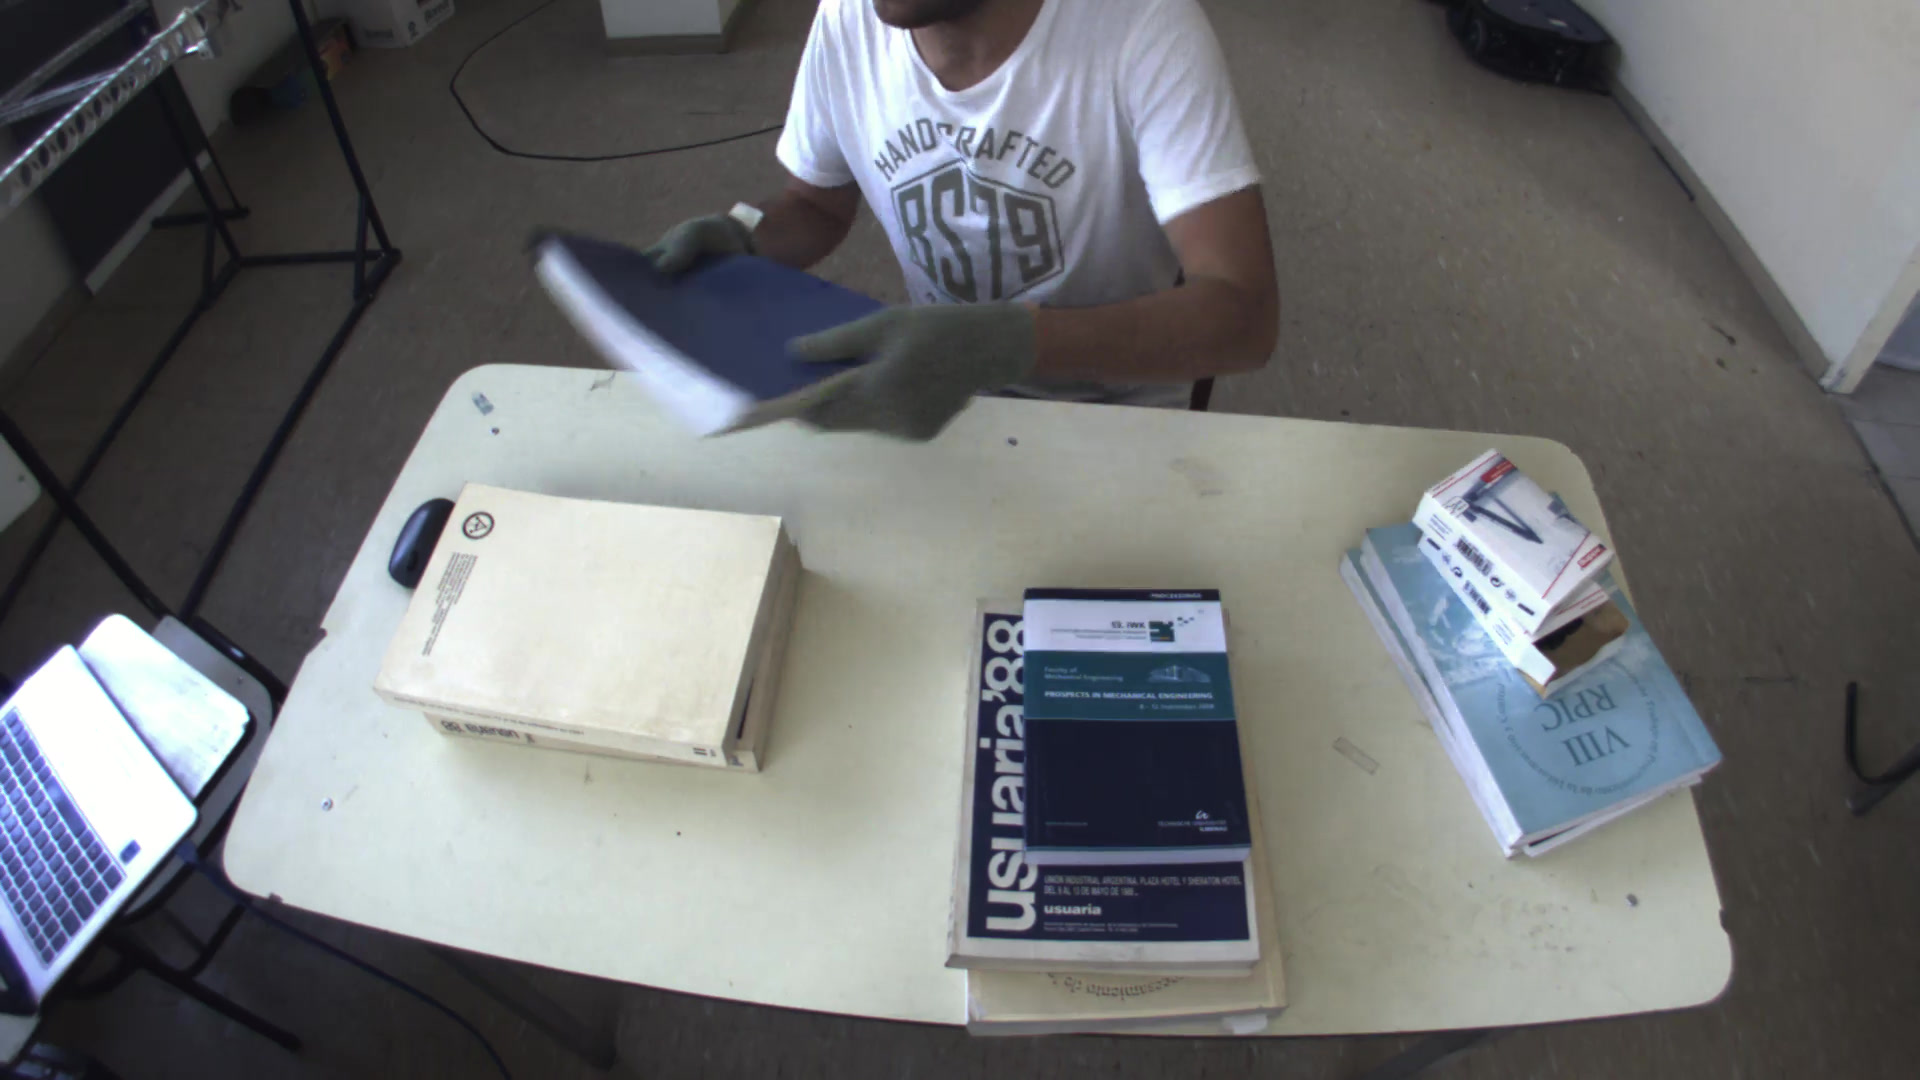hand: (720, 270, 1055, 450), (632, 189, 764, 281)
